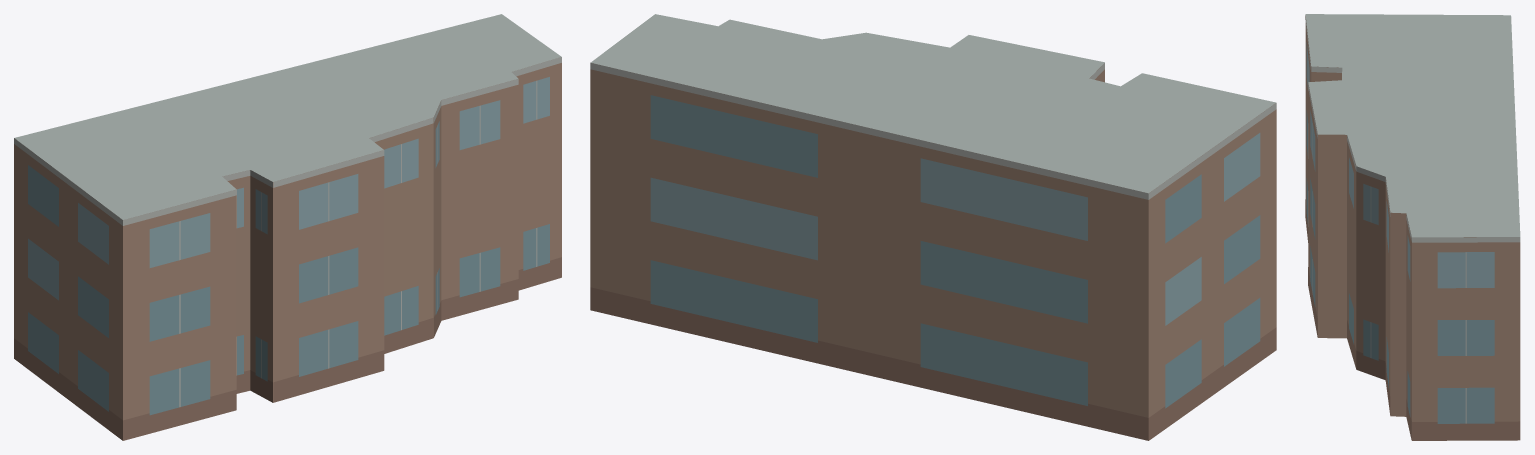
File: survey-upis-32942143.glb
The picture shows the model from 3 angles, left to right: view 1: azimuth 30°, elevation 25°; view 2: azimuth 150°, elevation 25°; view 3: azimuth 270°, elevation 25°; orthographic projection. The views are drawn at different scales.
Parts seen in each view (by area): view 1: survey-upis-32942143.tmp; view 2: survey-upis-32942143.tmp; view 3: survey-upis-32942143.tmp.
Part boxes in pixels (box(x1,y1,x2,y2)): survey-upis-32942143.tmp: box(14, 14, 561, 440); survey-upis-32942143.tmp: box(590, 14, 1276, 440); survey-upis-32942143.tmp: box(1305, 14, 1520, 440).
Size of the model in its own units: 21.55 by 9.15 by 8.77.
